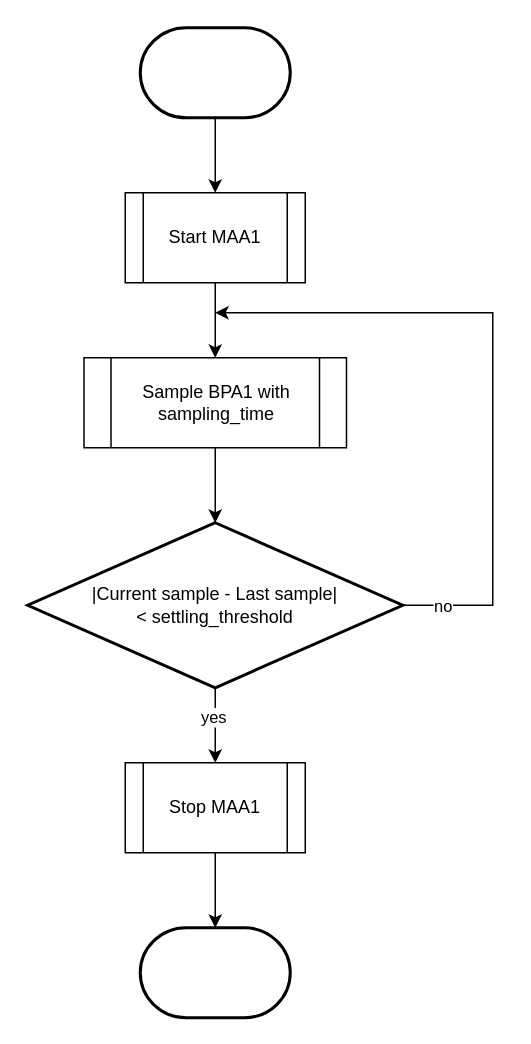
Image size: 531x1044. Some labels were removed from this diagram. Each missing label, with the centre of its shape:
"COMPLETE" goes at (214,972).
"IDLE" goes at (214,72).
